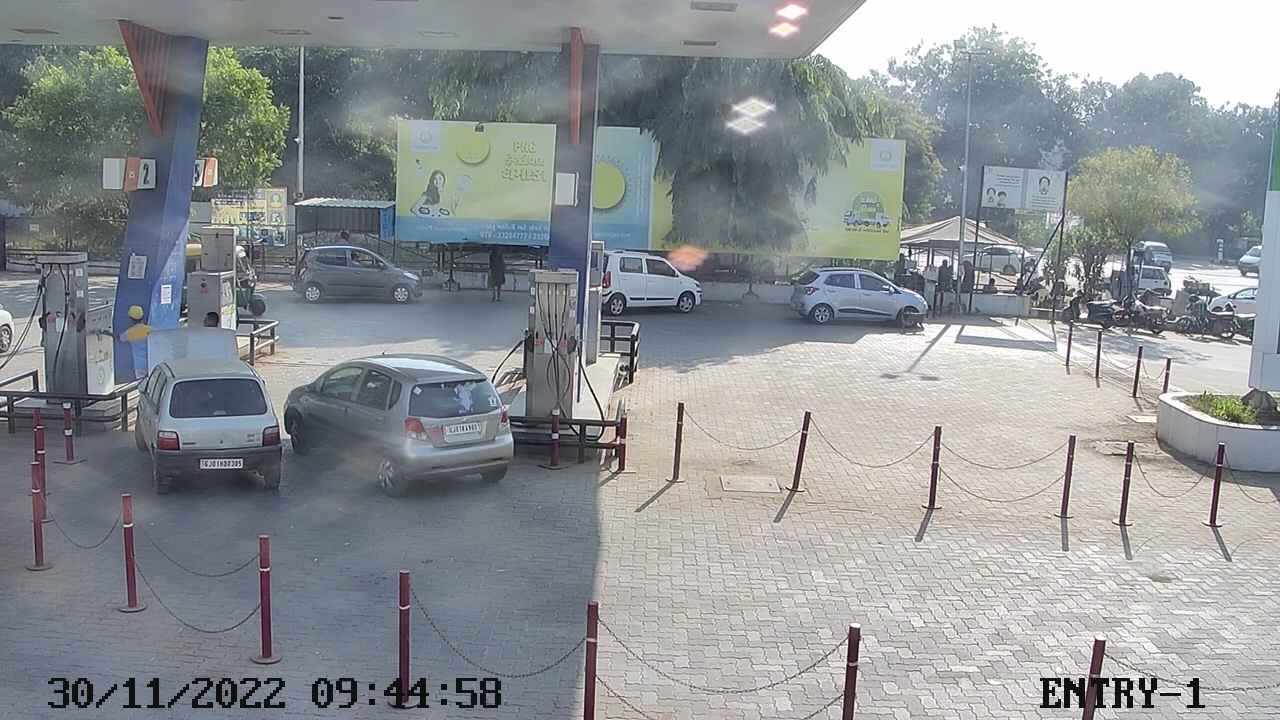Auto: (224, 238, 276, 321)
Bike: (1170, 288, 1241, 345), (1109, 286, 1173, 342), (1056, 275, 1120, 331), (1214, 289, 1259, 342)
Car: (280, 347, 518, 502), (129, 322, 289, 497), (784, 256, 933, 335), (289, 230, 426, 311), (586, 235, 705, 322), (1203, 270, 1265, 339), (955, 238, 1040, 280), (0, 267, 26, 383), (1119, 237, 1179, 273), (1232, 236, 1266, 281)
Others: (116, 299, 155, 398)
